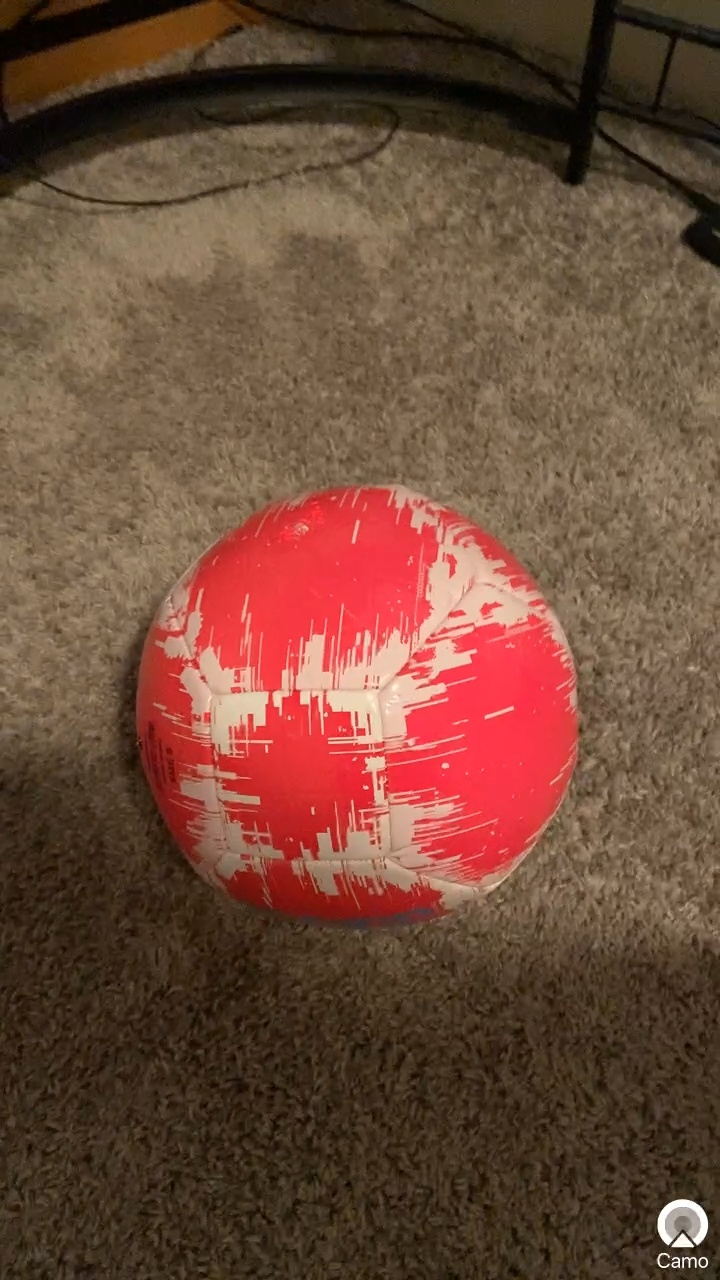Soccer_Ball: (111, 452, 607, 955)
